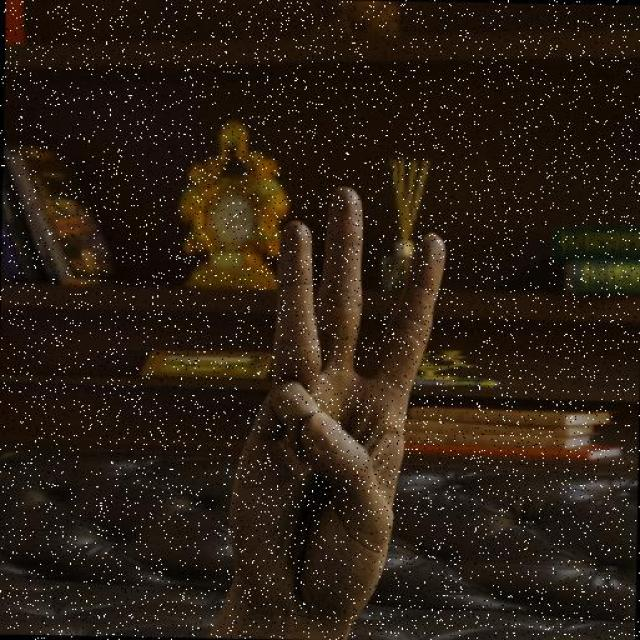W: (222, 180, 449, 624)
